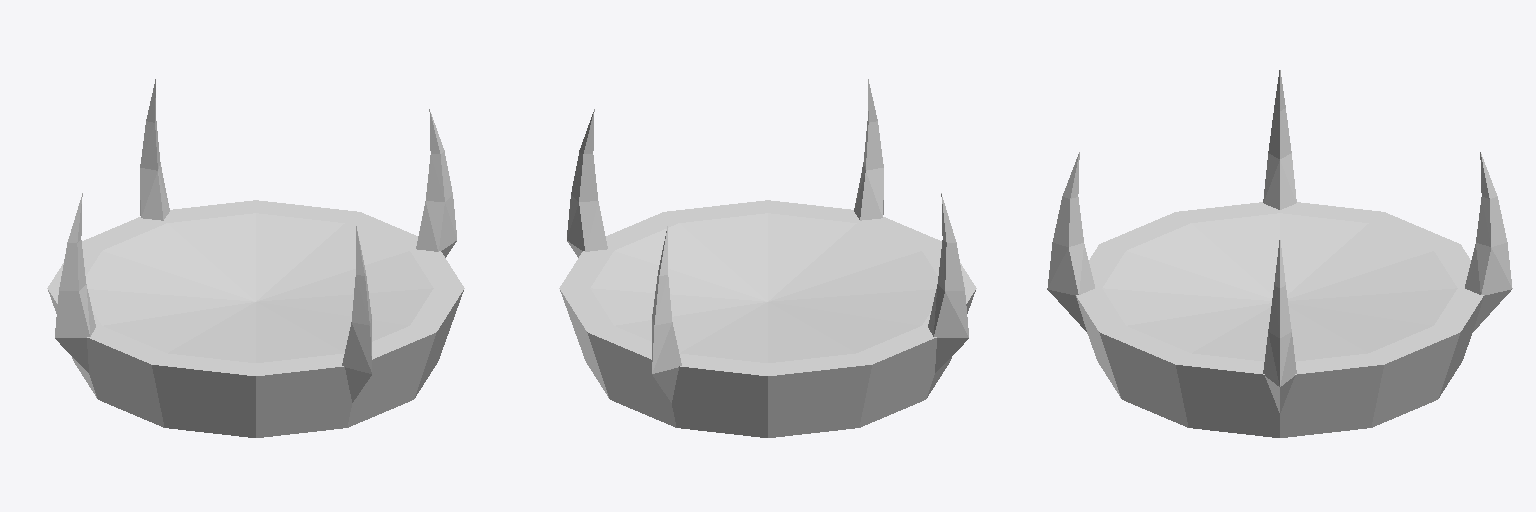
File: stg600_obj_planterB_bp1.obj
3 renders of one model, left to right at view 1: azimuth 30°, elevation 25°; view 2: azimuth 150°, elevation 25°; view 3: azimuth 270°, elevation 25°, orthographic.
Visible parts, largest first — view 1: polygon0, polygon1; view 2: polygon0, polygon1; view 3: polygon0, polygon1.
Part boxes in pixels (x1,y1,x2,y2): polygon0: (47,79,464,437); polygon1: (86,213,433,362); polygon0: (559,79,976,437); polygon1: (590,213,937,362); polygon0: (1047,70,1512,437); polygon1: (1102,213,1457,361).
Bounding box in the file's own units: 15.48 × 7.73 × 15.48.